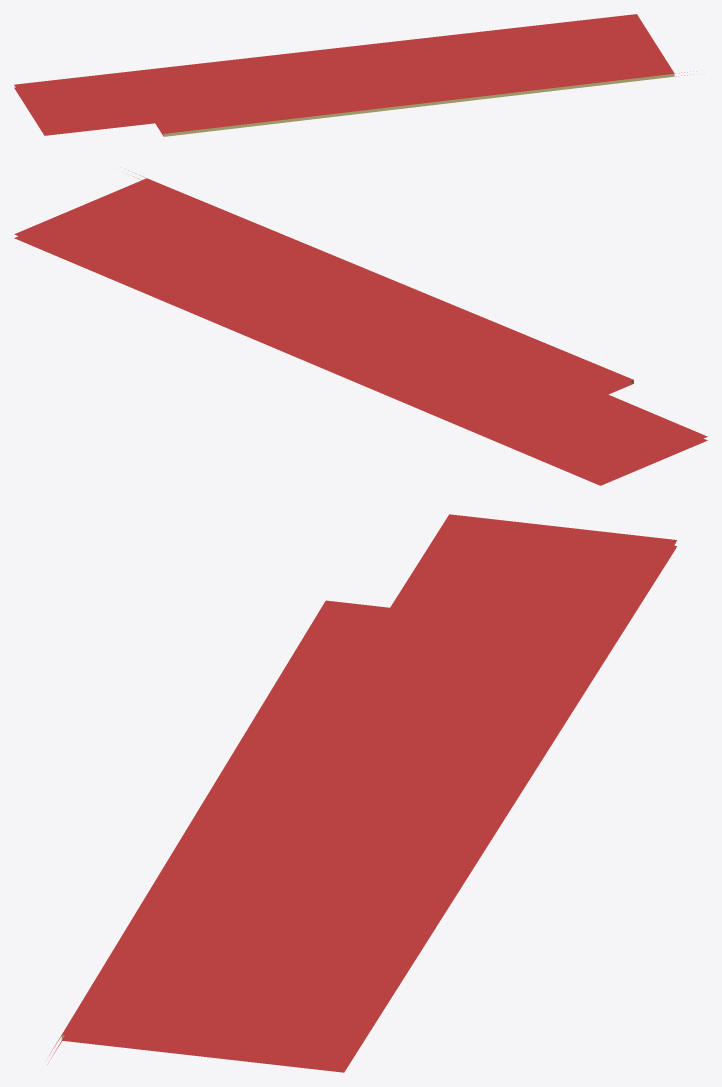
3 renders of one model, top to bottom at view 1: azimuth 30°, elevation 25°; view 2: azimuth 150°, elevation 25°; view 3: azimuth 270°, elevation 25°, orthographic. The views are drawn at different scales.
Bounding box in the file's own units: 19.93 × 9.65 × 0.1.
